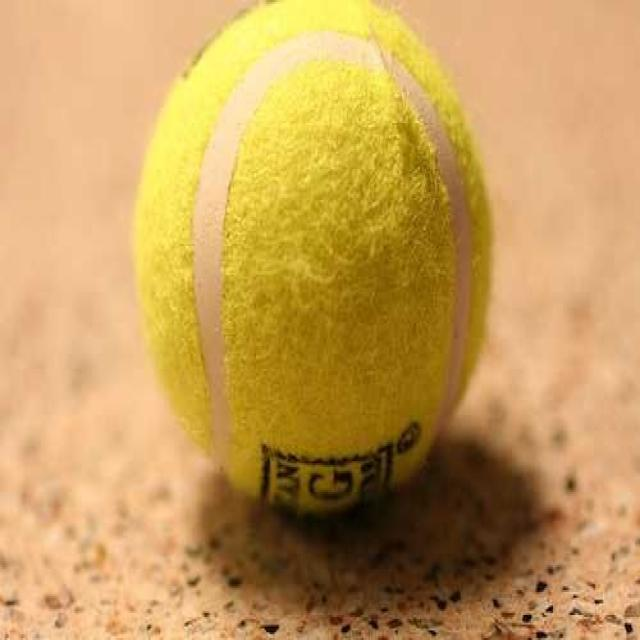Tennis_Ball: (129, 0, 490, 495)
